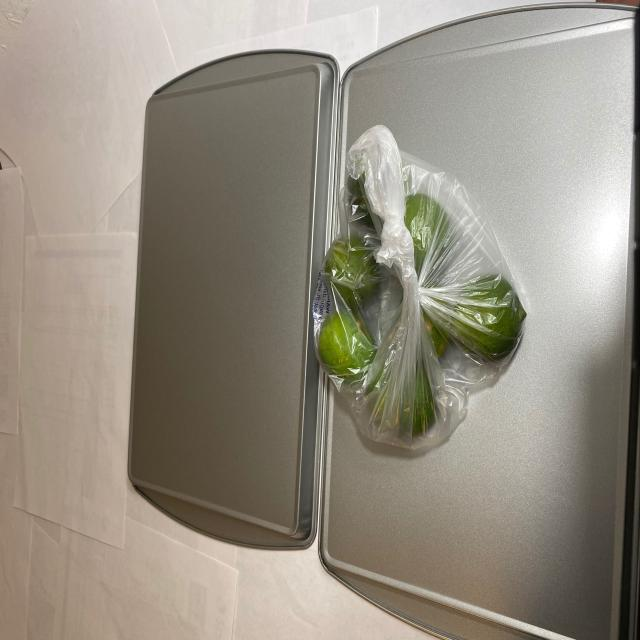lemon: (314, 164, 530, 439)
